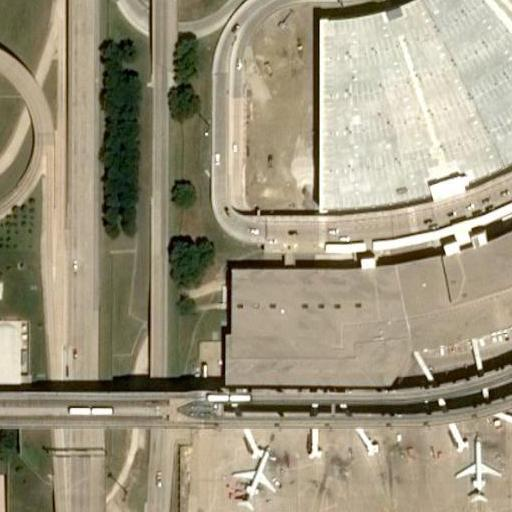Aircraft: (227, 450, 276, 510), (454, 439, 495, 502)
